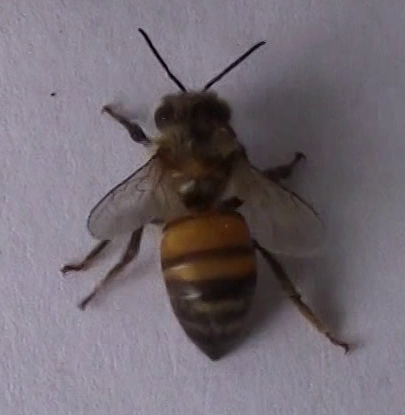Healthy: (58, 25, 355, 364)
